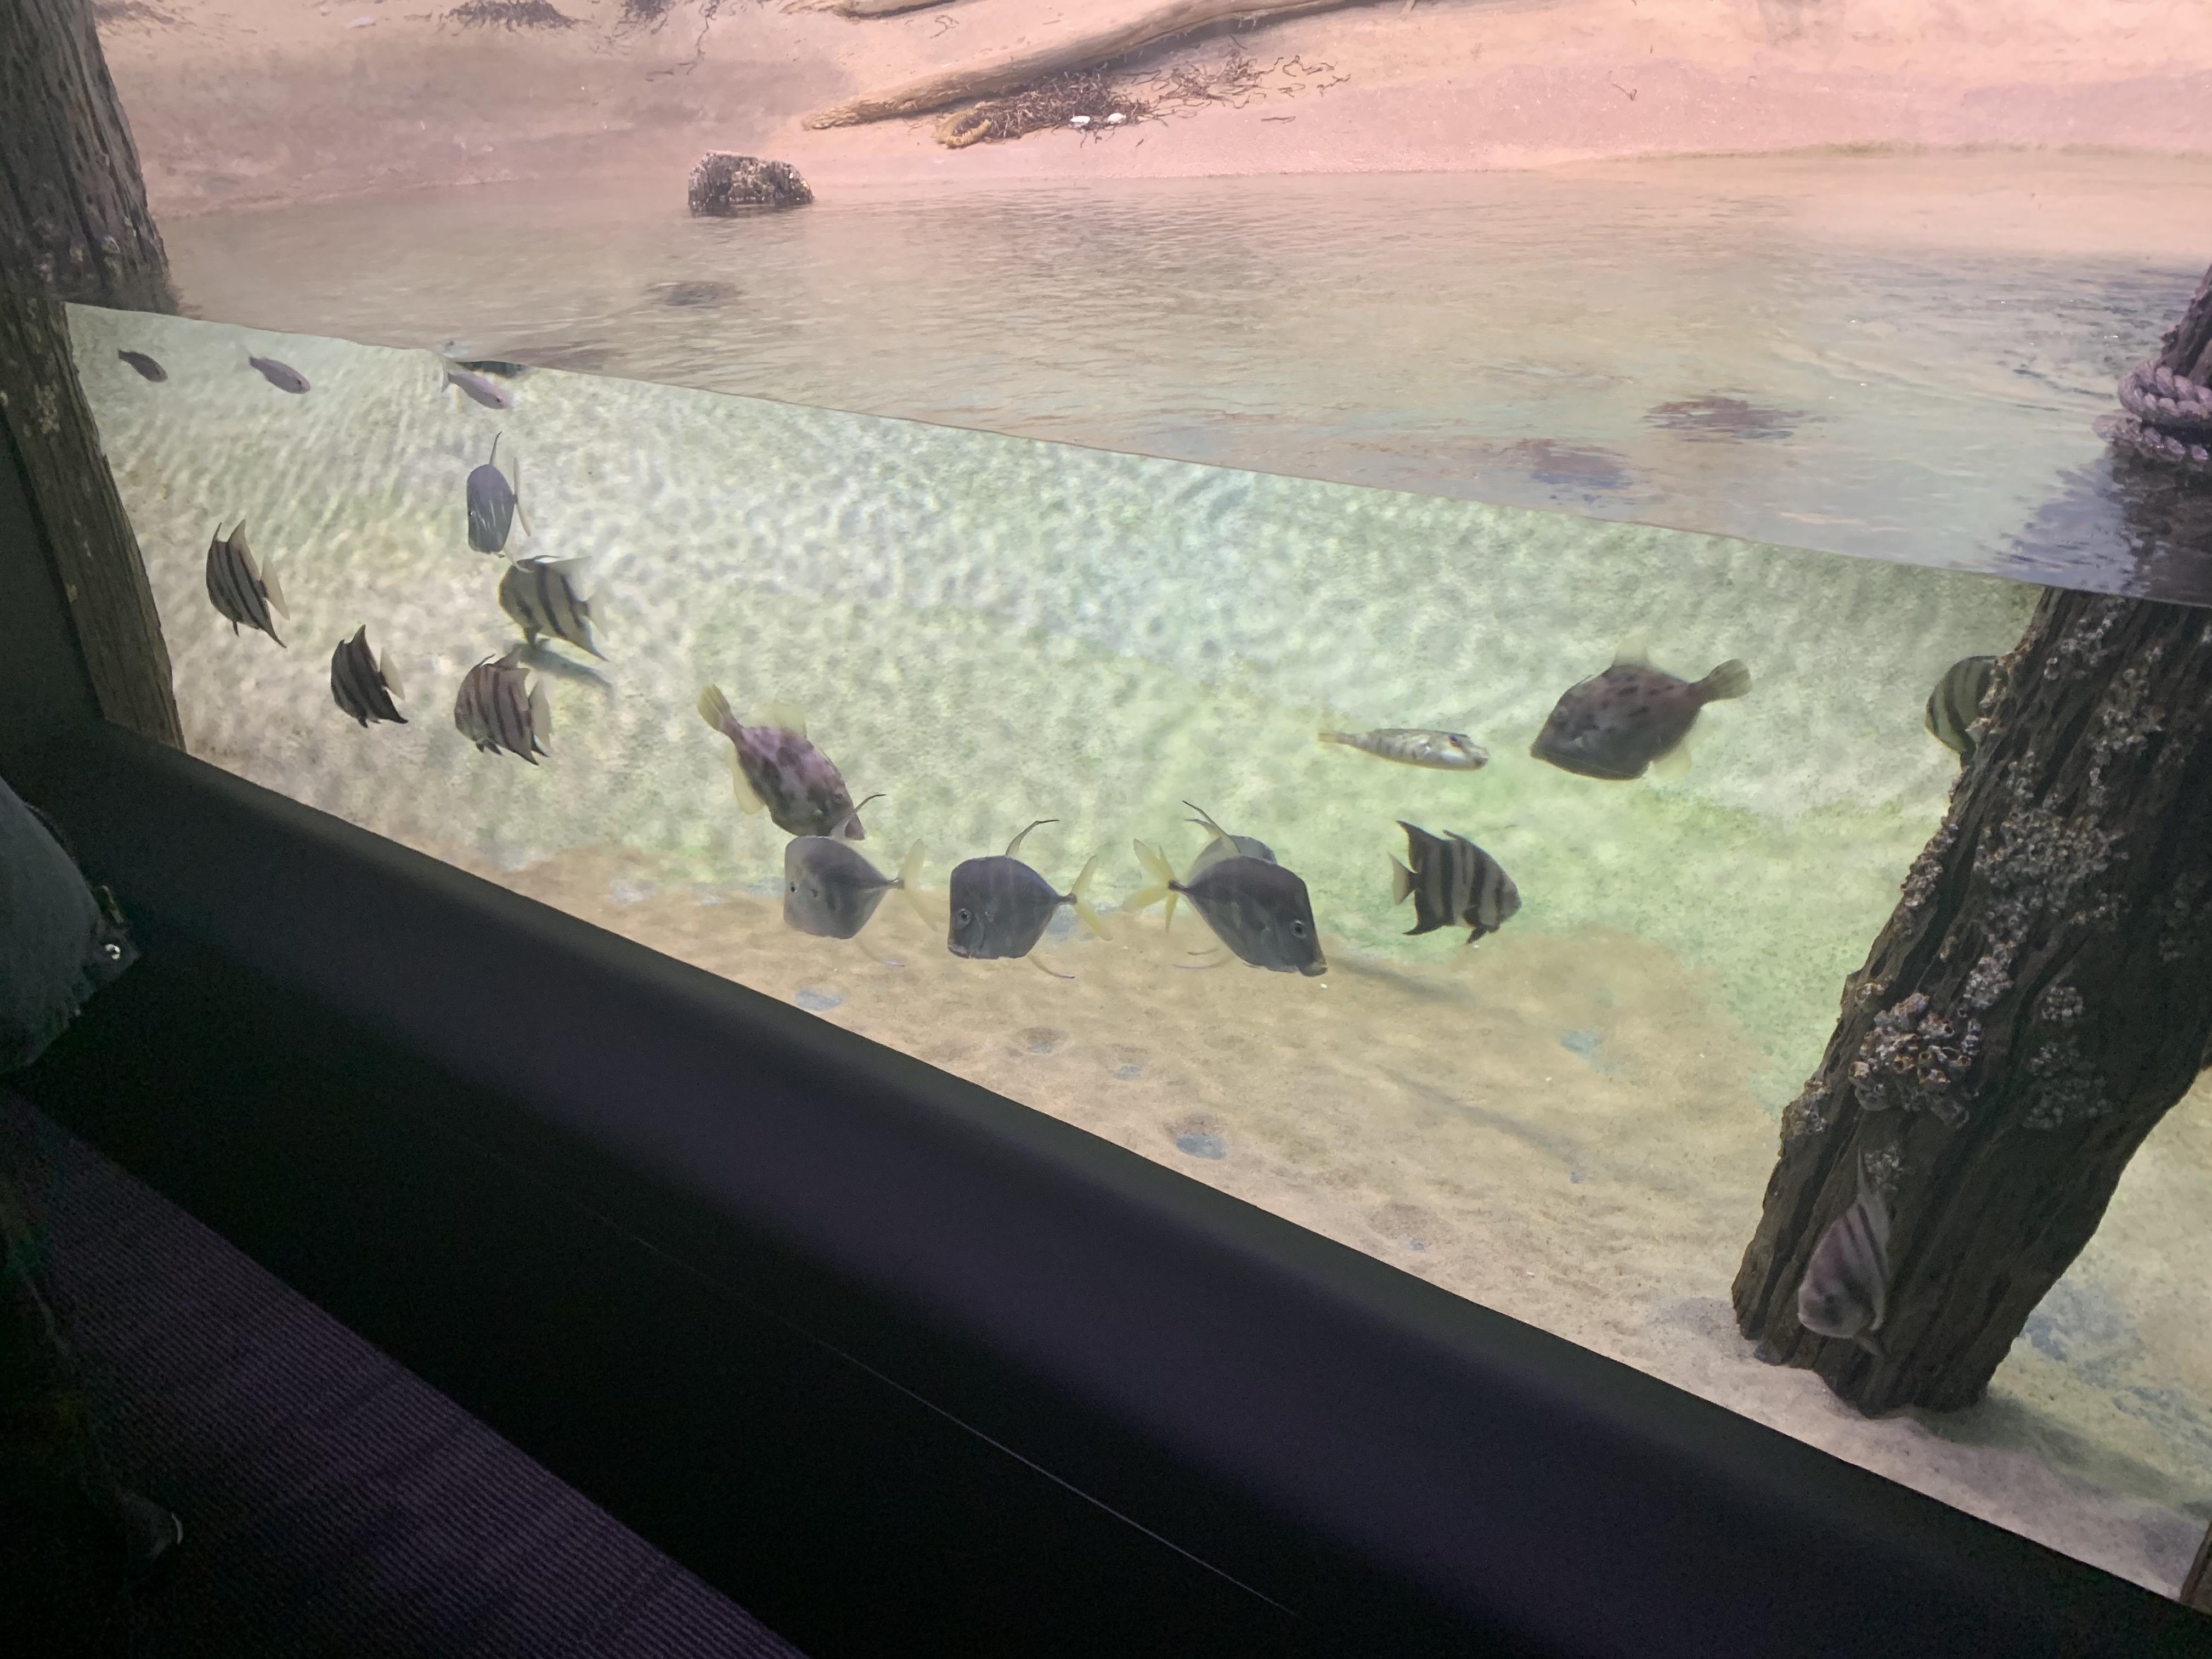fish: (1120, 800, 1331, 979), (1529, 634, 1756, 786), (695, 681, 869, 843), (946, 817, 1116, 979), (782, 795, 942, 967), (1792, 1140, 1900, 1366), (1385, 819, 1524, 948), (1157, 817, 1278, 946), (1921, 653, 2036, 774), (498, 552, 615, 664), (453, 647, 556, 767), (206, 518, 294, 652), (463, 429, 538, 575), (329, 622, 411, 730), (1315, 725, 1493, 774), (228, 342, 314, 397), (435, 352, 514, 410), (110, 342, 171, 385)
